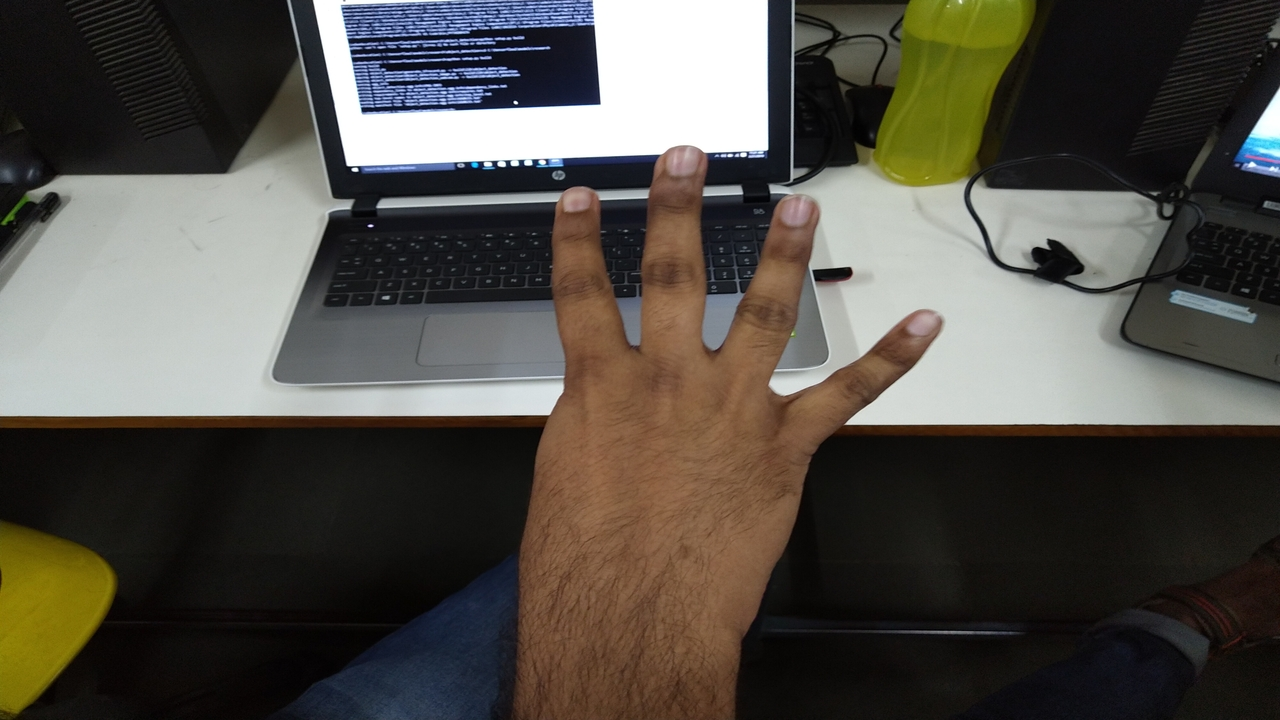fingertip: (766, 184, 826, 244), (890, 298, 958, 350), (648, 138, 708, 188), (544, 178, 604, 226)
